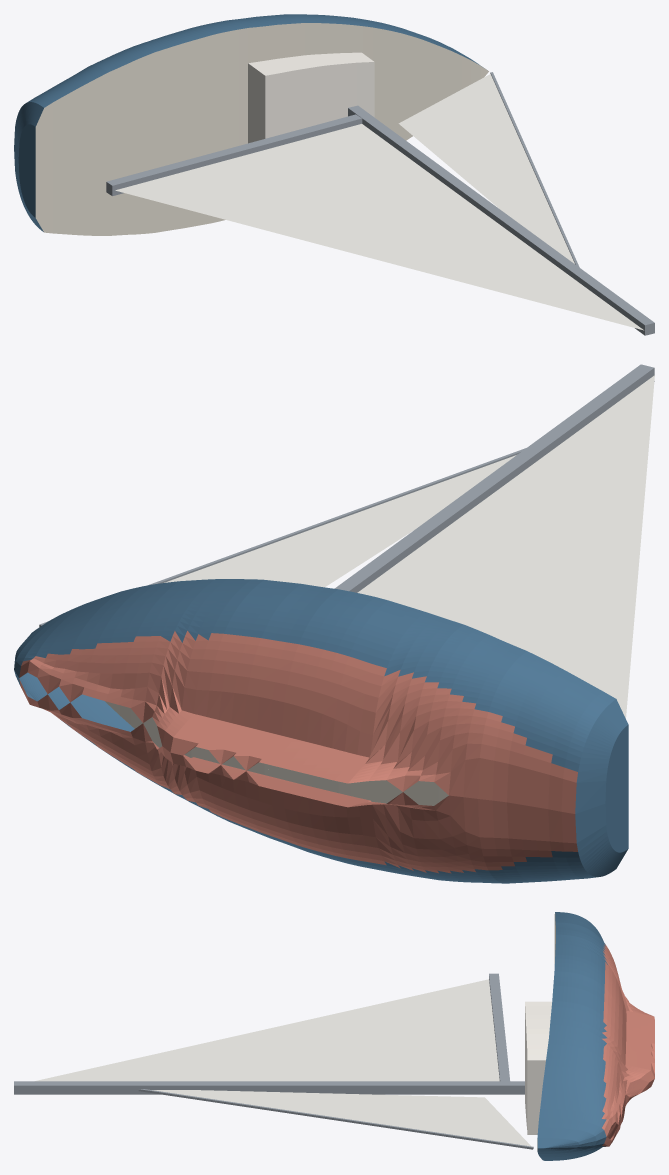
Rendered from com-pac-16.glb.
The picture shows the model from 3 angles, top to bottom: view 1: azimuth 30°, elevation 25°; view 2: azimuth 150°, elevation 25°; view 3: azimuth 270°, elevation 25°; orthographic projection. The views are drawn at different scales.
Visible parts, largest first — view 1: Com-Pac 16; view 2: Com-Pac 16; view 3: Com-Pac 16.
Part boxes in pixels (x1,y1,x2,y2): Com-Pac 16: (14,14,654,335); Com-Pac 16: (14,364,654,883); Com-Pac 16: (14,912,654,1160).
Bounding box in the file's own units: 2 × 0.8086 × 2.9.
